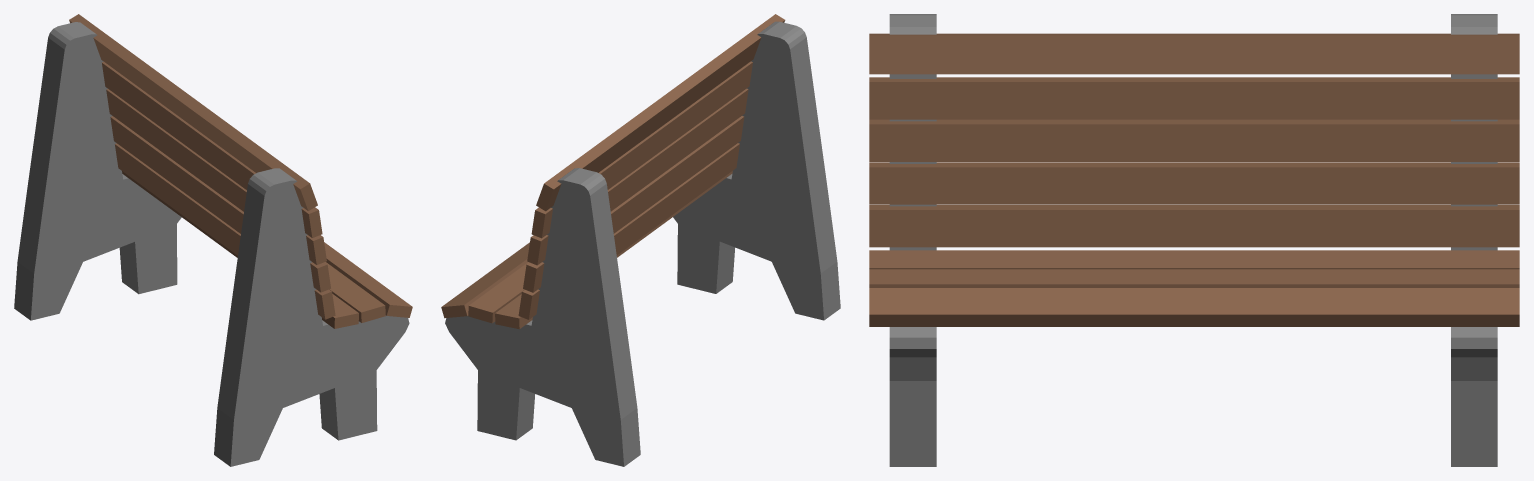
File: Park_Bench.fbx
3 renders of one model, left to right at view 1: azimuth 30°, elevation 25°; view 2: azimuth 150°, elevation 25°; view 3: azimuth 270°, elevation 25°, orthographic. The views are drawn at different scales.
Visible parts, largest first — view 1: Bench Leg, Bench Bench.007, Bench Bench.006, Bench Bench.005, Bench Bench.004, Bench Bench.003, Bench Bench.002, Bench Bench.001, Bench Bench; view 2: Bench Leg, Bench Bench.007, Bench Bench.006, Bench Bench.005, Bench Bench.004, Bench Bench.003, Bench Bench.002, Bench Bench.001, Bench Bench; view 3: Bench Bench.003, Bench Bench.004, Bench Bench.006, Bench Bench.005, Bench Bench.007, Bench Bench.002, Bench Leg, Bench Bench, Bench Bench.001.
Boxes of the visible parts, <box> form: Bench Leg: <box>14,22,409,466</box>; Bench Bench.007: <box>69,14,317,210</box>; Bench Bench.006: <box>102,62,322,237</box>; Bench Bench.005: <box>106,89,326,264</box>; Bench Bench.004: <box>110,116,330,292</box>; Bench Bench.003: <box>115,143,335,319</box>; Bench Bench.002: <box>324,242,412,317</box>; Bench Bench.001: <box>325,262,385,322</box>; Bench Bench: <box>122,171,358,328</box>; Bench Leg: <box>445,21,840,466</box>; Bench Bench.007: <box>536,14,785,211</box>; Bench Bench.006: <box>531,61,752,238</box>; Bench Bench.005: <box>527,88,748,265</box>; Bench Bench.004: <box>523,116,744,292</box>; Bench Bench.003: <box>518,143,739,319</box>; Bench Bench.002: <box>441,242,529,318</box>; Bench Bench.001: <box>468,262,528,323</box>; Bench Bench: <box>495,171,732,329</box>; Bench Bench.003: <box>869,205,1519,247</box>; Bench Bench.004: <box>869,162,1519,204</box>; Bench Bench.006: <box>869,77,1519,119</box>; Bench Bench.005: <box>869,119,1519,161</box>; Bench Bench.007: <box>869,33,1519,74</box>; Bench Bench.002: <box>869,288,1519,326</box>; Bench Leg: <box>889,14,1497,466</box>; Bench Bench: <box>869,250,1519,269</box>; Bench Bench.001: <box>869,269,1519,287</box>.
Size of the model in its own units: 1.24 by 1.8 by 2.78.
